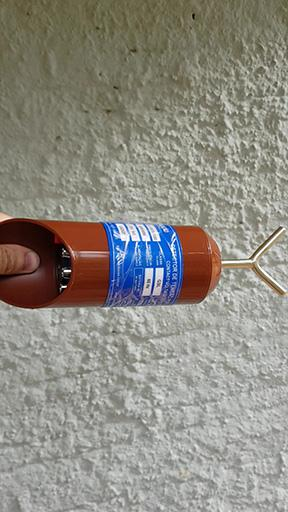Detector_Tensao_Contato: (1, 217, 284, 310)
